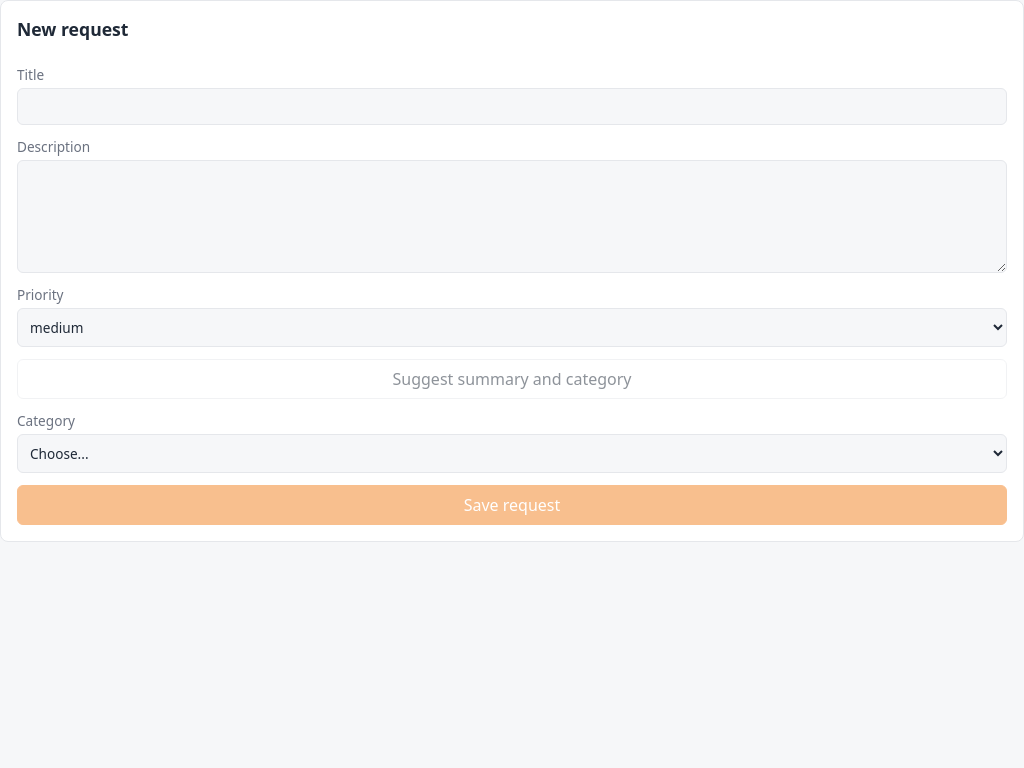
Test case: NewRequestForm › cannot save without a category or before typing a title
expect the button "Save request" is disabled: met, box [17,485,1007,525]
In the field labelled "Title": x=512, y=106 [17,88,1007,125], type "VPN broken"
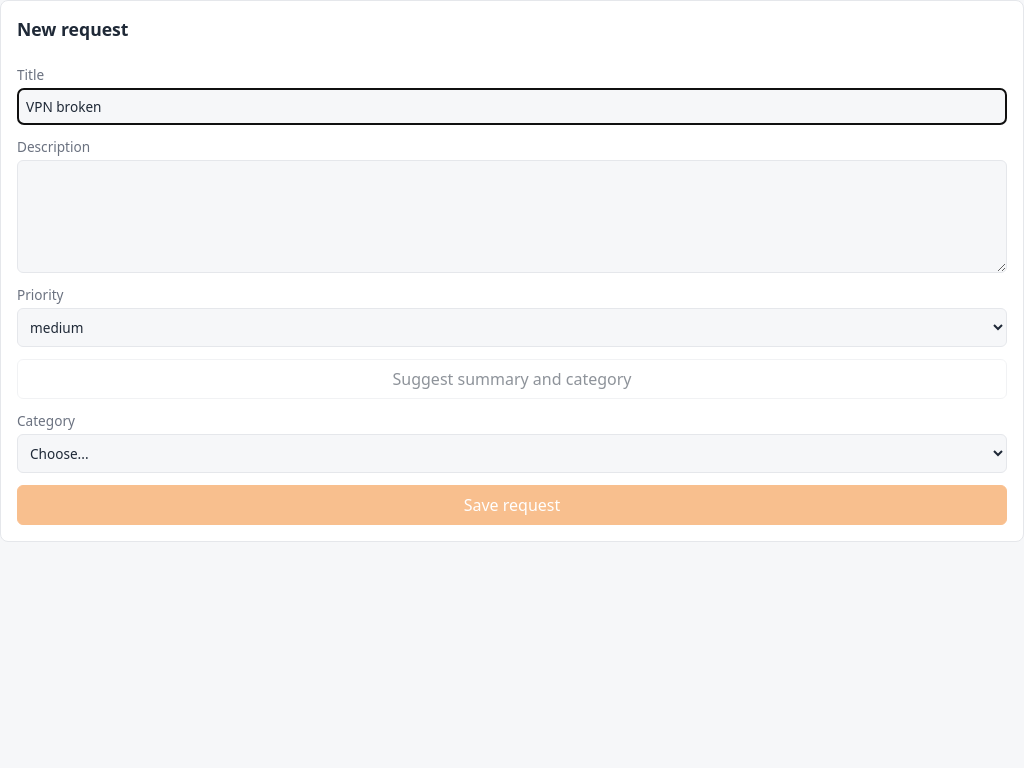
In the text box labelled "Description": x=512, y=216 [17,160,1007,273], type "Certificate expired this morning."
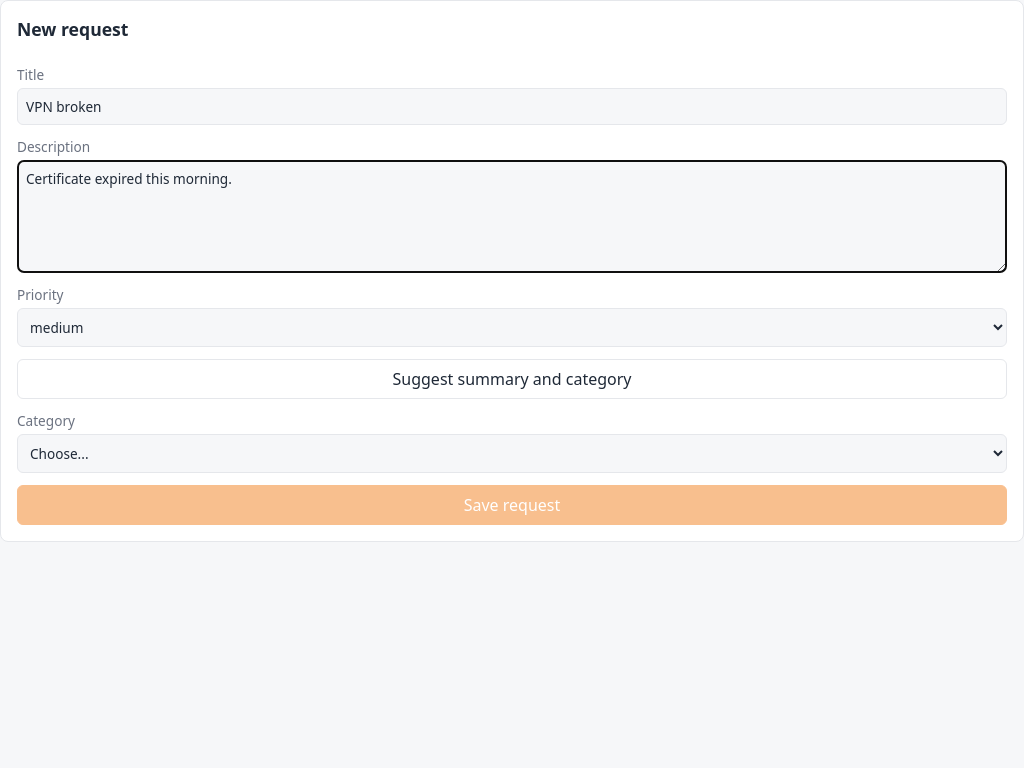
expect the button "Save request" is disabled: met, box [17,485,1007,525]
Select "Hardware" in the dropdown labelled "Category": x=512, y=454 [17,434,1007,473]
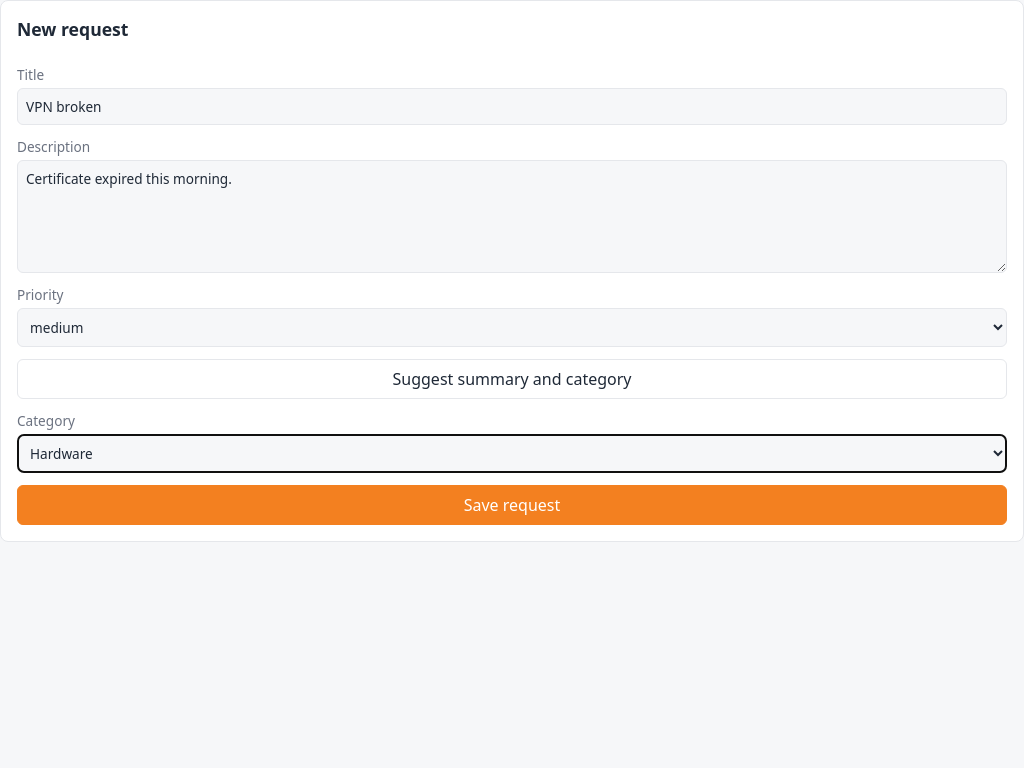
expect the button "Save request" is enabled: met, box [17,485,1007,525]
